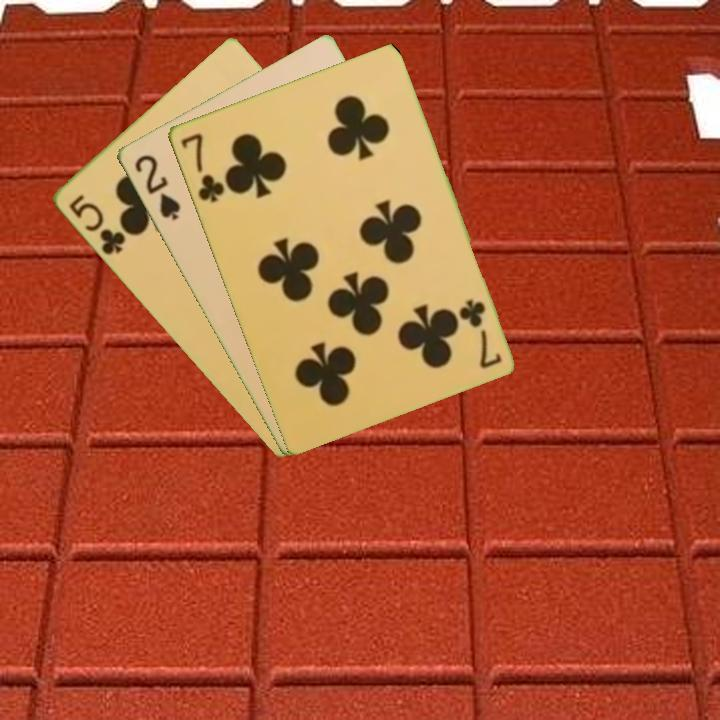2s: (130, 151, 183, 224)
5c: (64, 191, 128, 258)
7c: (176, 129, 227, 205), (456, 295, 504, 371)
